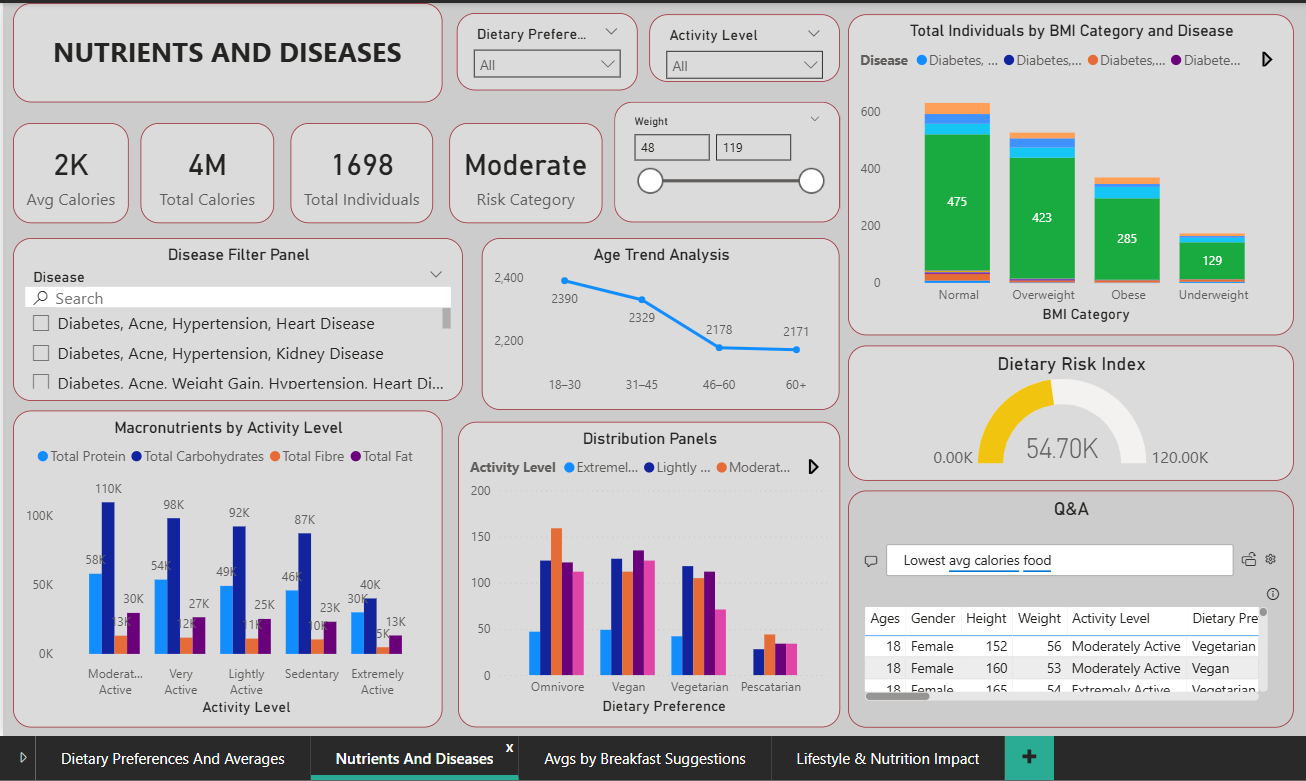

Layout of this report page (visuals, bound fields, positions):
{"tool":"powerbi","page":{"name":"Nutrients And Diseases","canvas":[1280,720],"ordinal":1},"visuals":[{"type":"textbox","box":[10,0,421.2,97.5],"z":0},{"type":"slicer","fields":{"Values":["detailed_meals_macros_CLEANED.Dietary Preference"]},"box":[445,10,177.5,76.2],"z":1000},{"type":"slicer","fields":{"Values":["detailed_meals_macros_CLEANED.Activity Level"]},"box":[633.8,11.2,187.5,66.2],"z":2000},{"type":"clusteredColumnChart","title":"Macronutrients by Activity Level","fields":{"Category":["detailed_meals_macros_CLEANED.Activity Level"],"Y":["detailed_meals_macros_CLEANED.Total Protein","detailed_meals_macros_CLEANED.Total Carbohydrates","detailed_meals_macros_CLEANED.Total Fibre","detailed_meals_macros_CLEANED.Total Fat"]},"box":[10,400,421.2,311.2],"z":3000},{"type":"clusteredColumnChart","title":" Distribution Panels","fields":{"Category":["detailed_meals_macros_CLEANED.Dietary Preference"],"Y":["detailed_meals_macros_CLEANED.Count of People"],"Series":["detailed_meals_macros_CLEANED.Activity Level"]},"box":[446.2,411.2,375,300],"z":4000},{"type":"slicer","title":"Disease Filter Panel","fields":{"Values":["detailed_meals_macros_CLEANED.Disease"]},"box":[10,231.2,441.2,160],"z":5000},{"type":"card","fields":{"Values":["detailed_meals_macros_CLEANED.Avg Calories"]},"box":[10,117.5,113.8,98.8],"z":6000},{"type":"card","fields":{"Values":["detailed_meals_macros_CLEANED.Total Calories"]},"box":[135,117.5,131.2,98.8],"z":7000},{"type":"card","fields":{"Values":["detailed_meals_macros_CLEANED.Total Individuals"]},"box":[282.5,117.5,140,98.8],"z":8000},{"type":"qnaVisual","title":"Q&A","box":[830,478.8,437.5,232.5],"z":9000},{"type":"slicer","fields":{"Values":["detailed_meals_macros_CLEANED.Weight"]},"box":[600,97.5,221.2,118.8],"z":10000},{"type":"columnChart","fields":{"Category":["detailed_meals_macros_CLEANED.BMI Category"],"Series":["detailed_meals_macros_CLEANED.Disease"],"Y":["detailed_meals_macros_CLEANED.Total Individuals"]},"box":[830,11.2,437.5,315],"z":11000},{"type":"lineChart","title":"Age Trend Analysis","fields":{"Category":["detailed_meals_macros_CLEANED.Age Group"],"Y":["detailed_meals_macros_CLEANED.Avg Calories"]},"box":[470,231.2,351.2,168.8],"z":12000},{"type":"gauge","title":"Dietary Risk Index","fields":{"Y":["detailed_meals_macros_CLEANED.Risk Score"]},"box":[830,336.2,437.5,132.5],"z":13000},{"type":"card","fields":{"Values":["detailed_meals_macros_CLEANED.Risk Category"]},"box":[437.5,117.5,150,98.8],"z":14000}]}

Visuals, with their boxes on the page's 1280x720 design canvas (x1, y1, x2, y2). These are canvas units, not pixel positions in the 1306x781 screenshot, which may show the page scaled, cropped or inside an application window:
textbox: <box>10,0,431,98</box>
slicer - detailed_meals_macros_CLEANED.Dietary Preference: <box>445,10,622,86</box>
slicer - detailed_meals_macros_CLEANED.Activity Level: <box>634,11,821,77</box>
"Macronutrients by Activity Level" clusteredColumnChart: <box>10,400,431,711</box>
" Distribution Panels" clusteredColumnChart: <box>446,411,821,711</box>
"Disease Filter Panel" slicer: <box>10,231,451,391</box>
card - detailed_meals_macros_CLEANED.Avg Calories: <box>10,118,124,216</box>
card - detailed_meals_macros_CLEANED.Total Calories: <box>135,118,266,216</box>
card - detailed_meals_macros_CLEANED.Total Individuals: <box>282,118,422,216</box>
"Q&A" qnaVisual: <box>830,479,1268,711</box>
slicer - detailed_meals_macros_CLEANED.Weight: <box>600,98,821,216</box>
columnChart - detailed_meals_macros_CLEANED.BMI Category x detailed_meals_macros_CLEANED.Disease: <box>830,11,1268,326</box>
"Age Trend Analysis" lineChart: <box>470,231,821,400</box>
"Dietary Risk Index" gauge: <box>830,336,1268,469</box>
card - detailed_meals_macros_CLEANED.Risk Category: <box>438,118,588,216</box>
